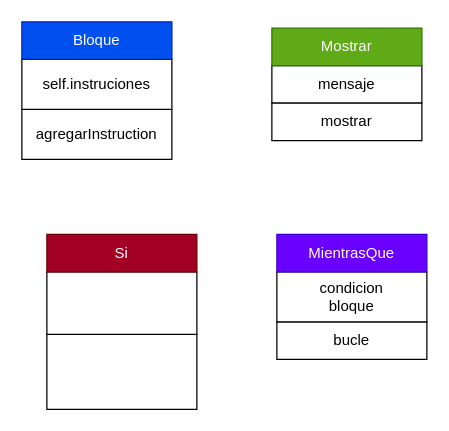
This 449x431 diagram has some shape labels left out. The centre of each missing label's shape, as x and y in pixels:
comprobar_condicion: point 121,371
condicion entonces si_no: point 121,302
